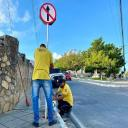NoSeguir: (38, 2, 58, 28)
